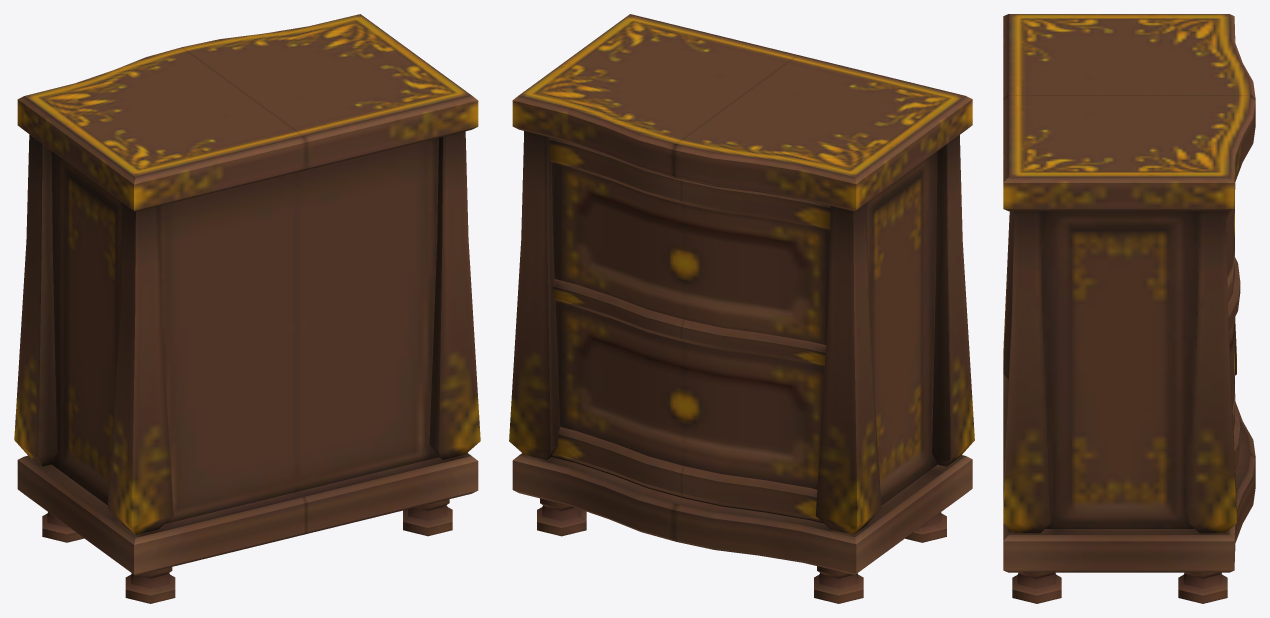
The model's file is Cabinet_04.gltf.
3 renders of one model, left to right at view 1: azimuth 30°, elevation 25°; view 2: azimuth 150°, elevation 25°; view 3: azimuth 270°, elevation 25°, orthographic.
Parts seen in each view (by area): view 1: Cabinet_04; view 2: Cabinet_04; view 3: Cabinet_04.
Part boxes in pixels (left/top/right/bottom): Cabinet_04: left=14, top=14, right=480, bottom=603; Cabinet_04: left=509, top=14, right=974, bottom=603; Cabinet_04: left=1003, top=14, right=1255, bottom=603.
Bounding box in the file's own units: 48.94 × 57.92 × 30.88.
Materials: 1 (1 with a texture image).
